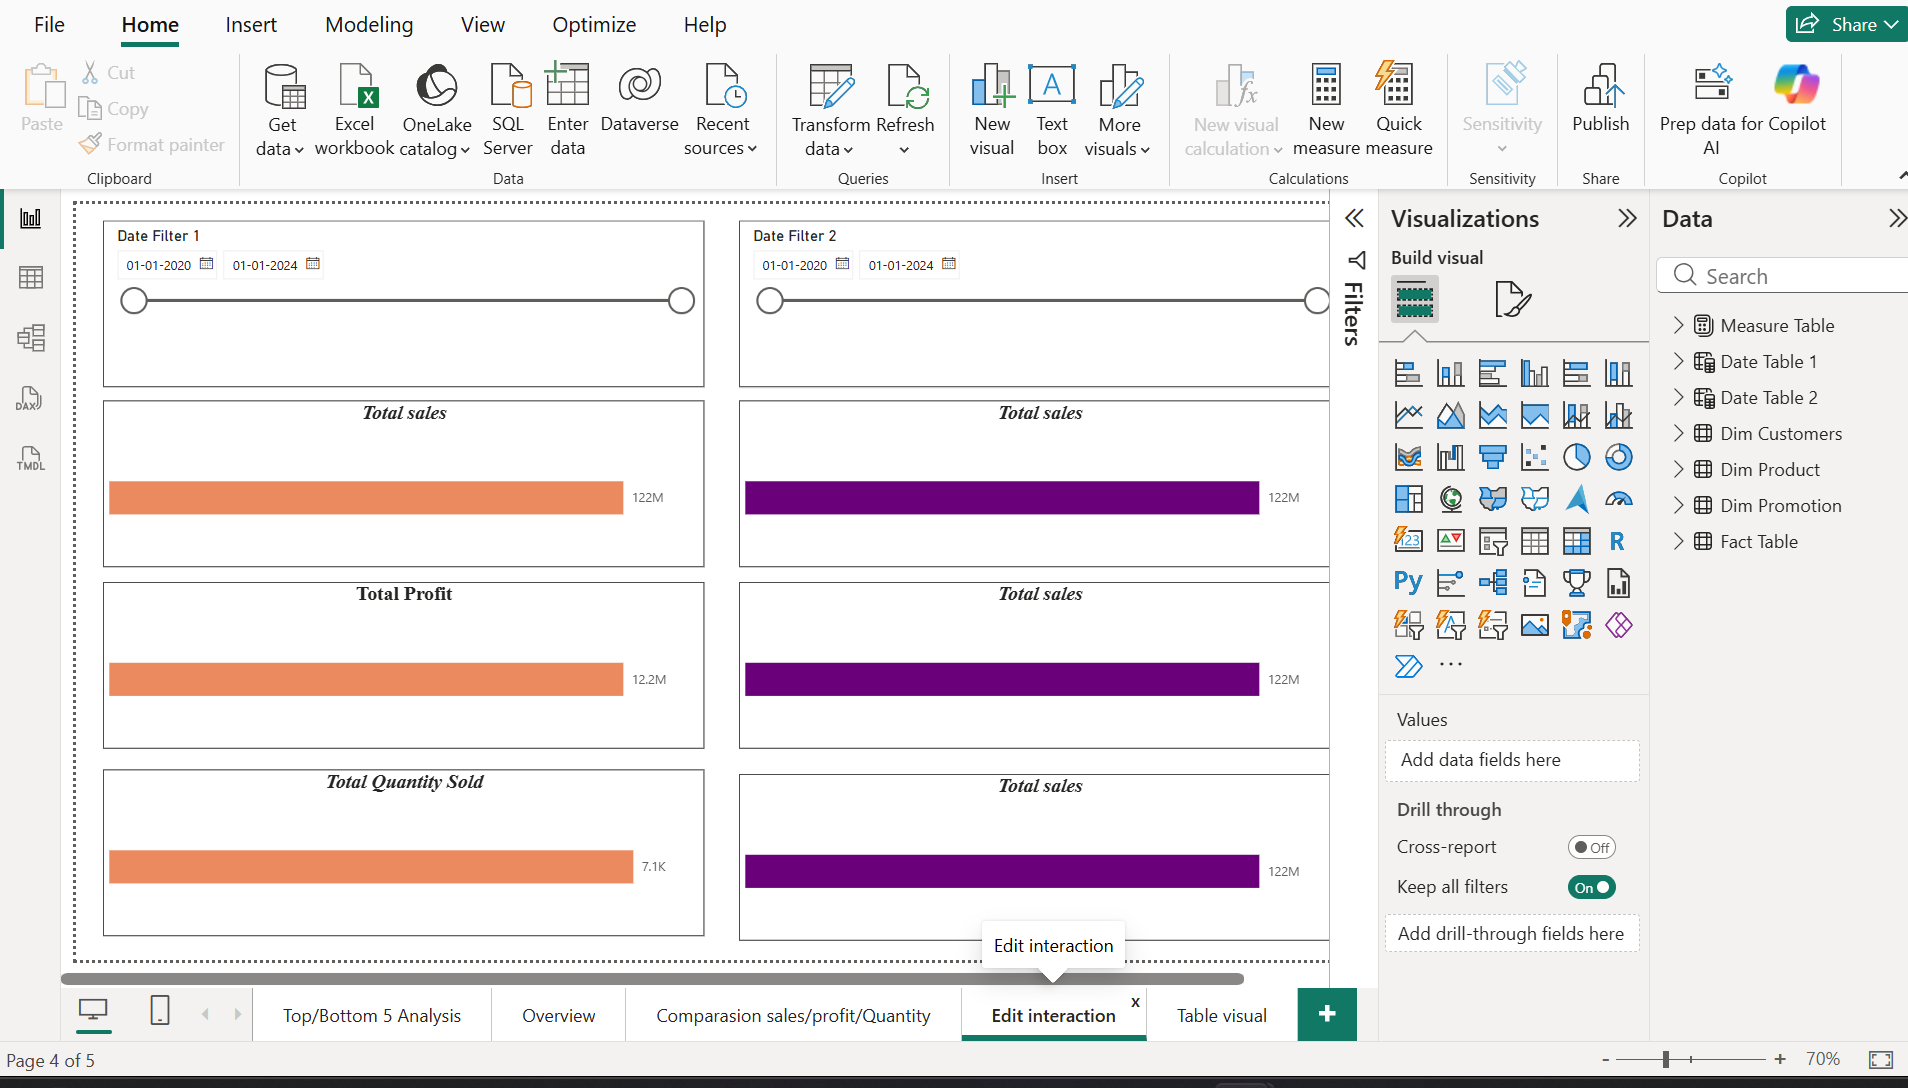

The dashboard page shown, as its layout file describes it:
{"tool":"powerbi","page":{"name":"Edit interaction","canvas":[1280,720],"ordinal":3},"visuals":[{"type":"slicer","fields":{"Values":["Fact Table.Date (dd/mm/yyyy)"]},"box":[25.7,15.1,572.4,159],"z":0},{"type":"slicer","fields":{"Values":["Fact Table.Date (dd/mm/yyyy)"]},"box":[631.4,15.1,572.4,159],"z":1000},{"type":"barChart","title":"Total sales","fields":{"Y":["Sum(Fact Table.net sales)"]},"box":[25.7,187.8,572.4,159],"z":2000},{"type":"barChart","title":"Total Quantity Sold","fields":{"Y":["Sum(Fact Table.Units Sold)"]},"box":[25.7,539.1,572.4,159],"z":3000},{"type":"barChart","title":"Total Profit","fields":{"Y":["Sum(Fact Table.profit)"]},"box":[25.7,360.4,572.4,159],"z":4000},{"type":"barChart","title":"Total sales","fields":{"Y":["Sum(Fact Table.net sales)"]},"box":[631.4,187.8,572.4,159],"z":5000},{"type":"barChart","title":"Total sales","fields":{"Y":["Sum(Fact Table.net sales)"]},"box":[631.3,543,572.4,159],"z":6000},{"type":"barChart","title":"Total sales","fields":{"Y":["Sum(Fact Table.net sales)"]},"box":[631.4,360.4,572.4,159],"z":7000}]}

Visuals, with their boxes on the page's 1280x720 design canvas (x1, y1, x2, y2). These are canvas units, not pixel positions in the 1908x1088 screenshot, which may show the page scaled, cropped or inside an application window:
slicer - Fact Table.Date (dd/mm/yyyy): rect(26, 15, 598, 174)
slicer - Fact Table.Date (dd/mm/yyyy): rect(631, 15, 1204, 174)
"Total sales" barChart: rect(26, 188, 598, 347)
"Total Quantity Sold" barChart: rect(26, 539, 598, 698)
"Total Profit" barChart: rect(26, 360, 598, 519)
"Total sales" barChart: rect(631, 188, 1204, 347)
"Total sales" barChart: rect(631, 543, 1204, 702)
"Total sales" barChart: rect(631, 360, 1204, 519)
